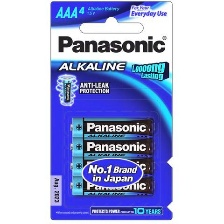battery: (67, 115, 156, 141), (68, 173, 156, 199), (67, 135, 159, 158), (69, 155, 156, 177)
book: (45, 0, 175, 221)
